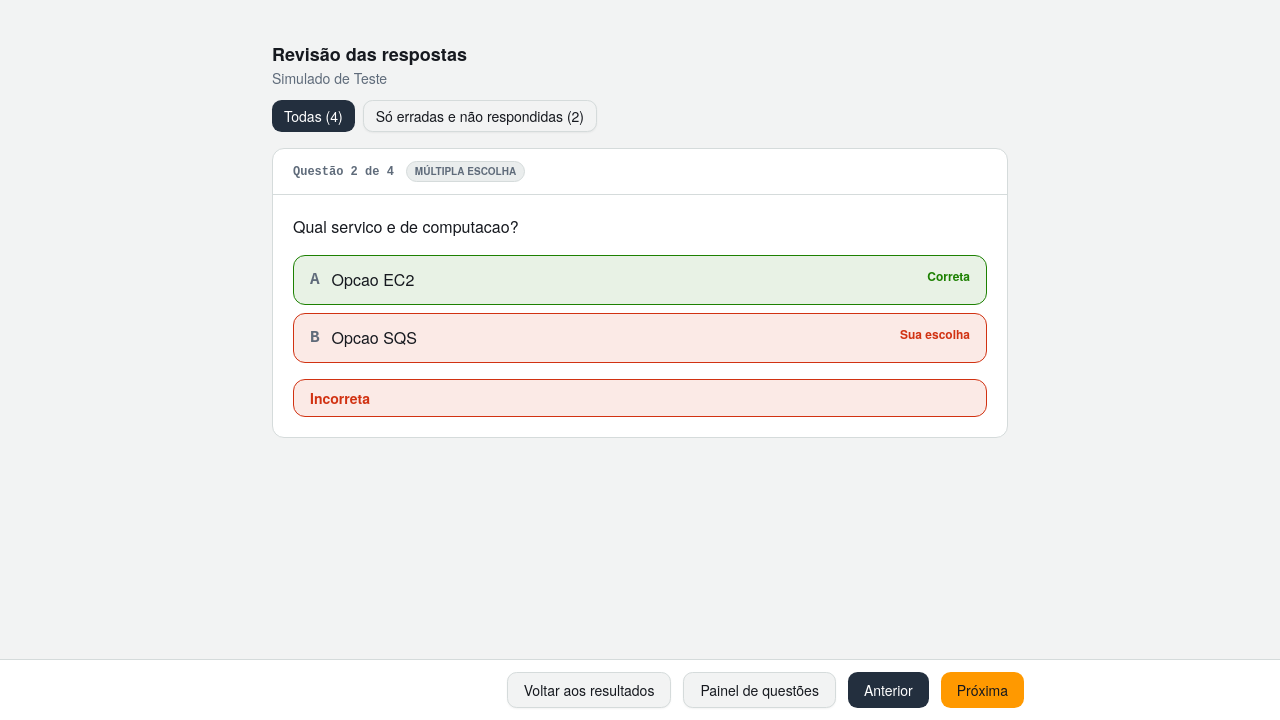
Test case: ExamReview filtro › a navegacao Proxima pula as questoes corretas com o filtro ligado
Click the button "Só erradas e não respondidas (2)". click: (480, 116)
box: [363,100,597,132]
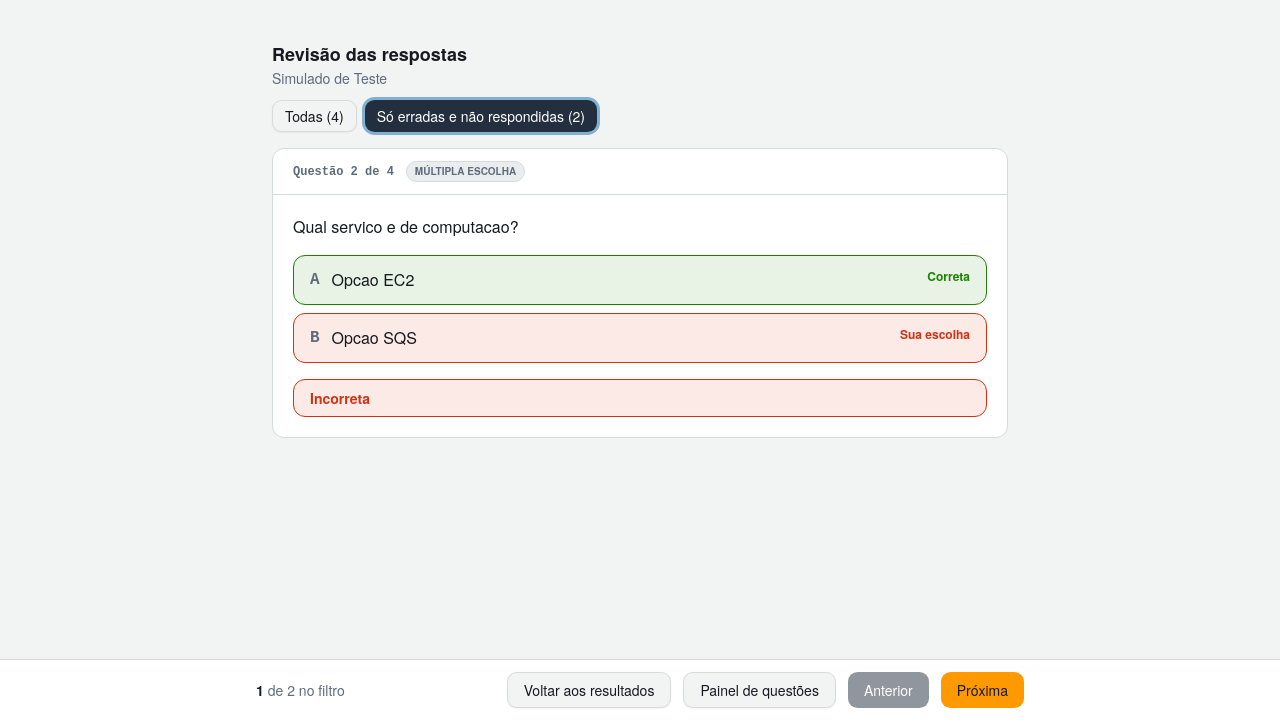
Click the button "Próxima". click: (982, 690)
box: [941,672,1024,708]
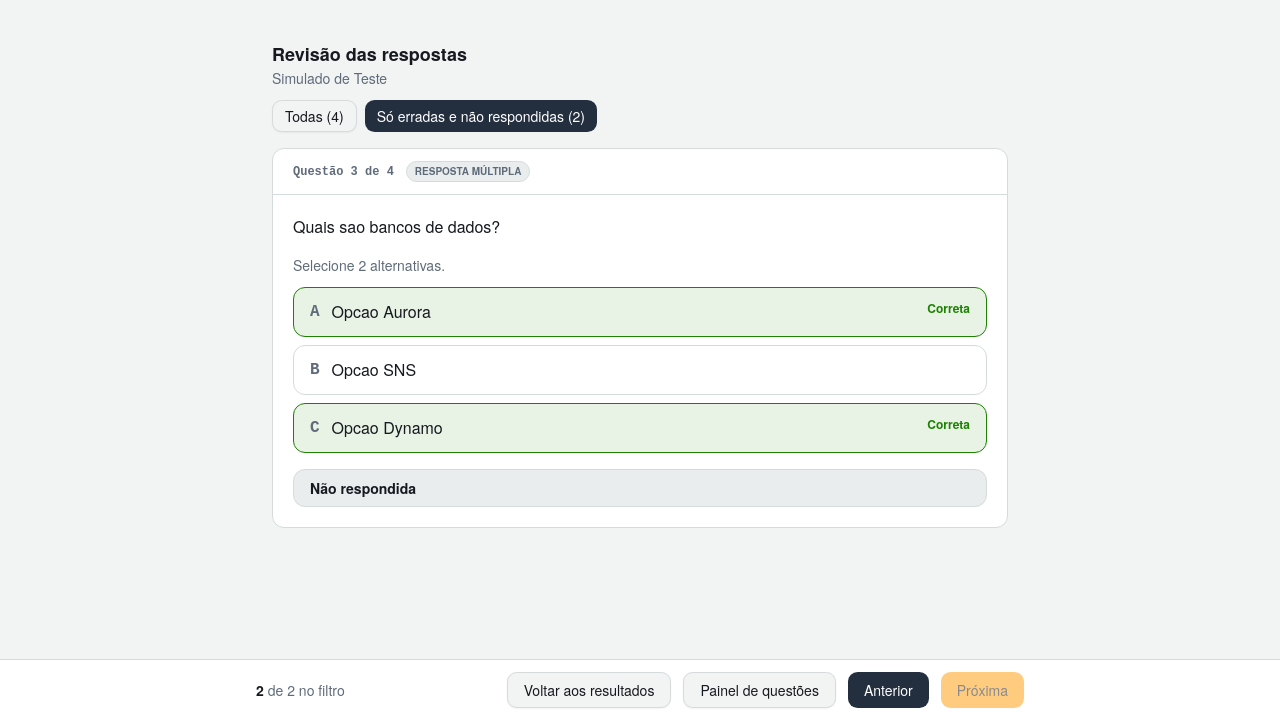
Now the text "Questão 3 de 4" is shown, box [293,164,394,180]
